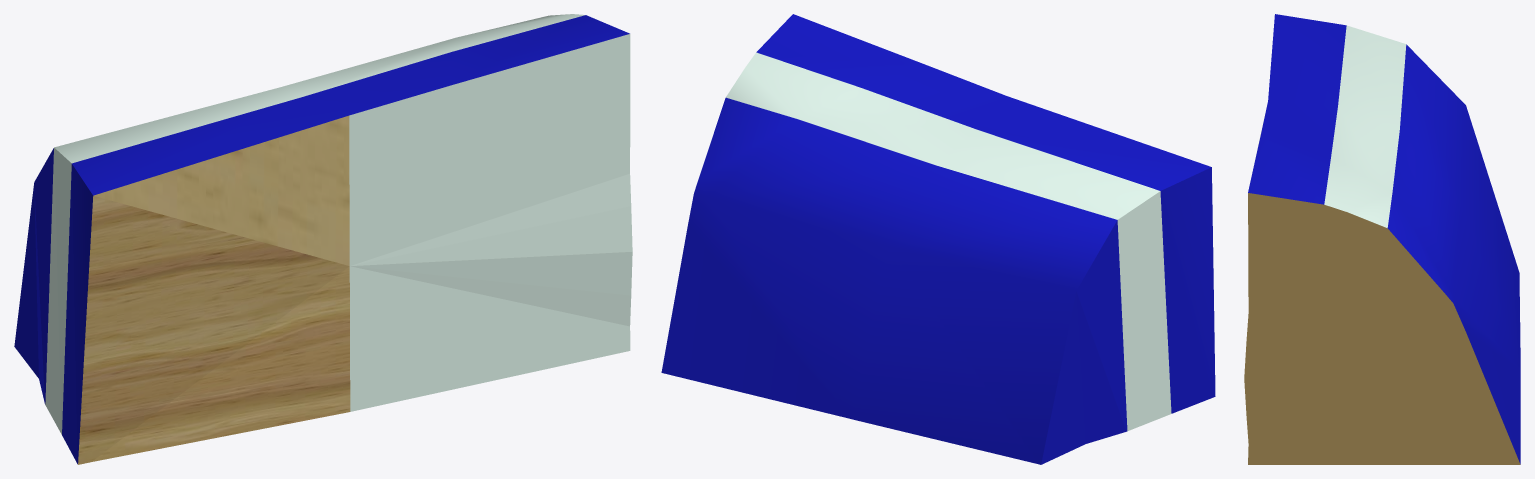
Rendered from backLeft.obj.
The picture shows the model from 3 angles, left to right: view 1: azimuth 30°, elevation 25°; view 2: azimuth 150°, elevation 25°; view 3: azimuth 270°, elevation 25°; orthographic projection. The views are drawn at different scales.
Visible parts, largest first — view 1: backLeft_Cabin_Plane.001_Windows.000; view 2: backLeft_Cabin_Plane.001_Windows.000; view 3: backLeft_Cabin_Plane.001_Windows.000.
Boxes of the visible parts, x1,y1,x2,y2 form: backLeft_Cabin_Plane.001_Windows.000: (14,14,632,464); backLeft_Cabin_Plane.001_Windows.000: (661,14,1215,464); backLeft_Cabin_Plane.001_Windows.000: (1244,14,1520,464).
Bounding box in the file's own units: 1.68 × 0.96 × 0.8841.
